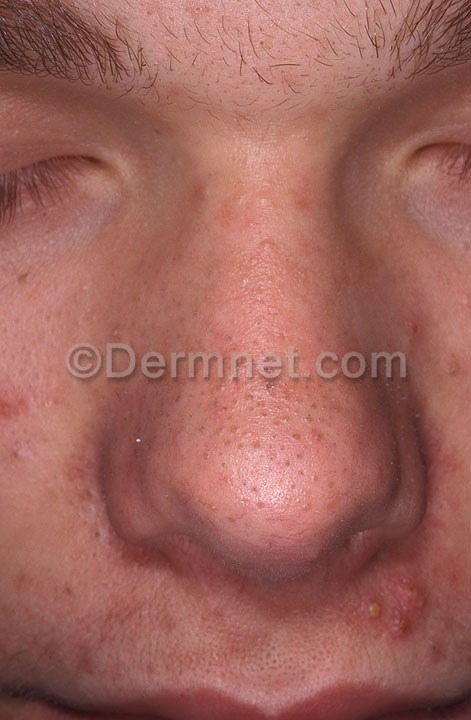Acne: (25, 193, 455, 653)
